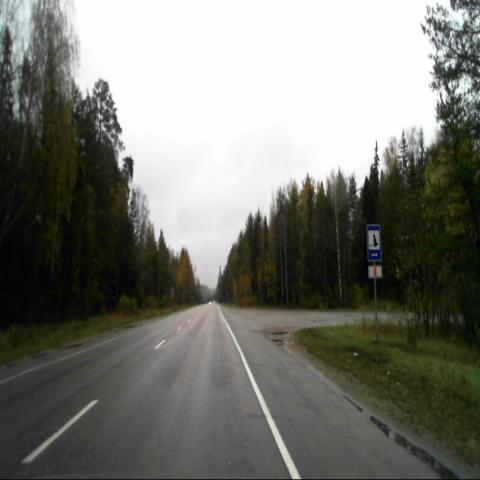7_11: (366, 224, 382, 262)
